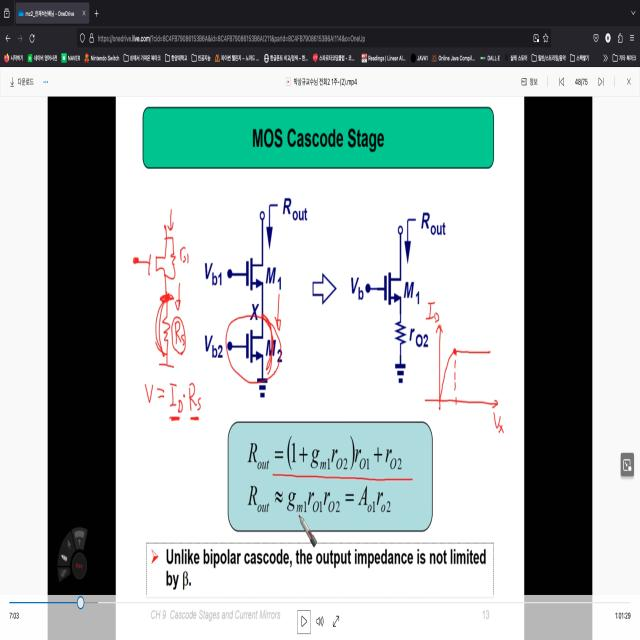panseo: (130, 196, 204, 438), (423, 294, 509, 440)
